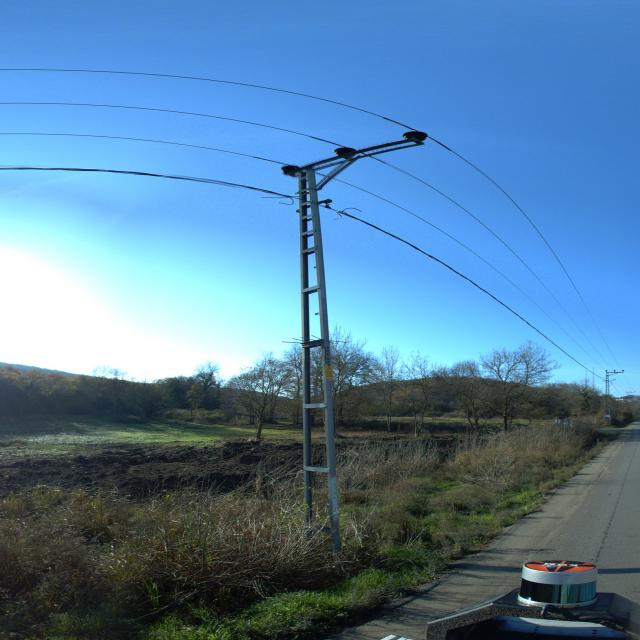Utility Pole Information Plate: (323, 366, 337, 381)
